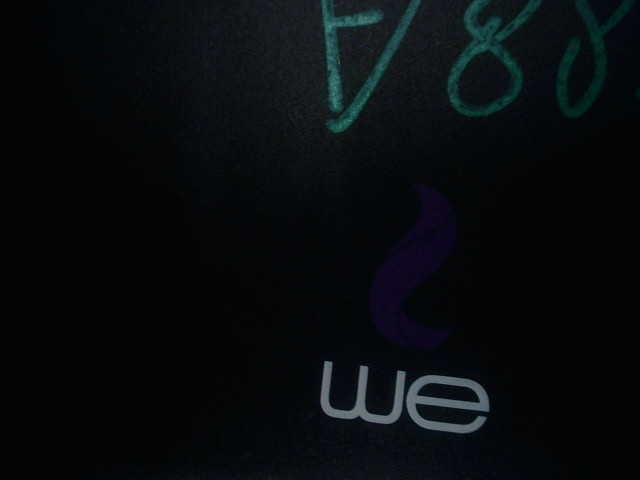AT_We: (304, 172, 494, 437)
